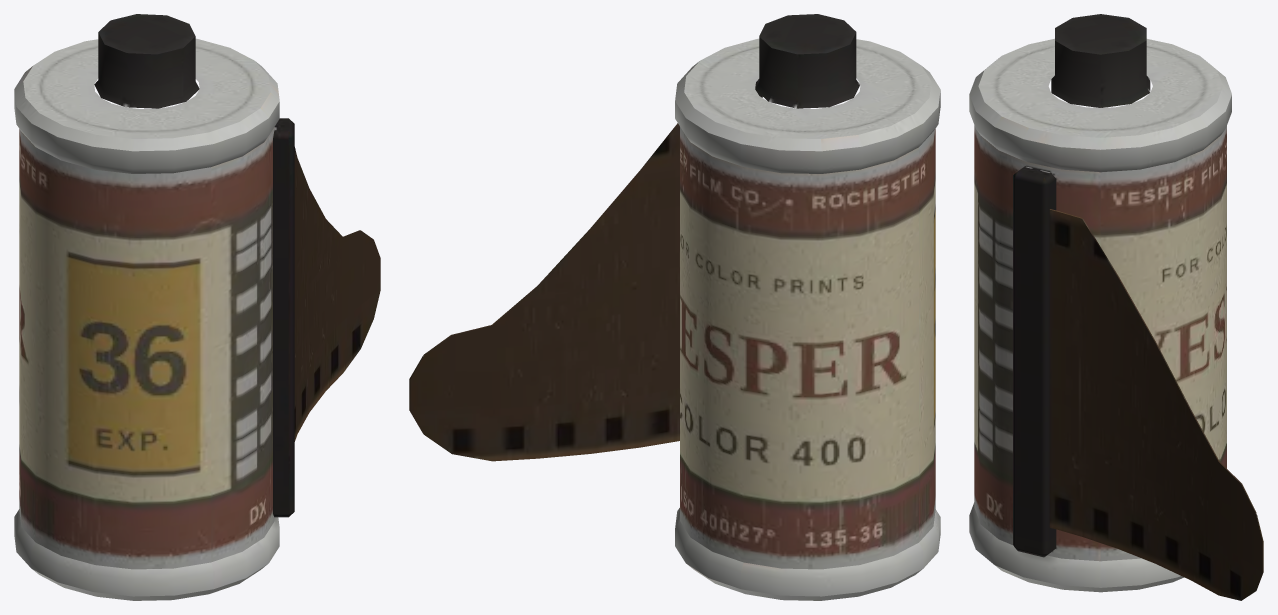
Rendered from film.glb.
3 renders of one model, left to right at view 1: azimuth 30°, elevation 25°; view 2: azimuth 150°, elevation 25°; view 3: azimuth 270°, elevation 25°, orthographic.
Visible parts, largest first — view 1: film; view 2: film; view 3: film.
Boxes of the visible parts, left/top/right/bottom form: film: left=14, top=14, right=380, bottom=600; film: left=409, top=14, right=940, bottom=600; film: left=969, top=14, right=1263, bottom=600.
Size of the model in its own units: 0.0489 by 0.0562 by 0.0293.
Materials: 1 (1 with a texture image).
